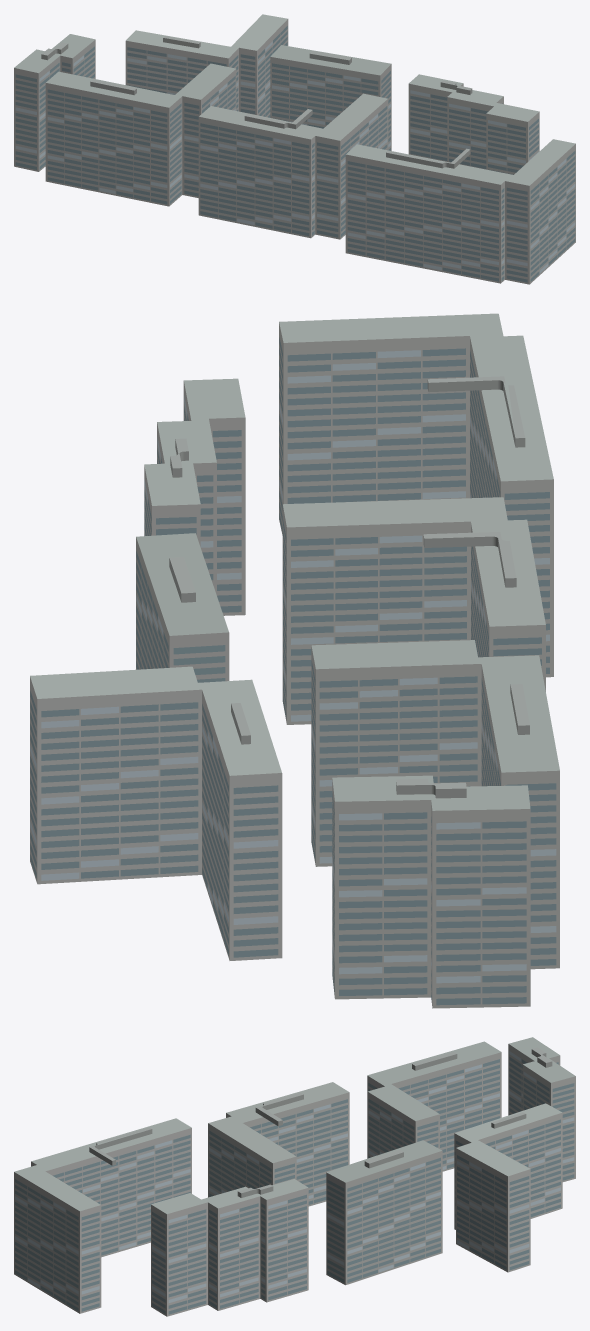
Rendered from apt-a15605002.glb.
The picture shows the model from 3 angles, top to bottom: view 1: azimuth 30°, elevation 25°; view 2: azimuth 150°, elevation 25°; view 3: azimuth 270°, elevation 25°; orthographic projection. The views are drawn at different scales.
Visible parts, largest first — view 1: apt-a15605002; view 2: apt-a15605002; view 3: apt-a15605002.
Boxes of the visible parts, box(x1,y1,x2,y2) form: apt-a15605002: box(14, 14, 575, 284); apt-a15605002: box(30, 313, 559, 1008); apt-a15605002: box(14, 1037, 575, 1316).
Size of the model in its own units: 170 by 48 by 228.
